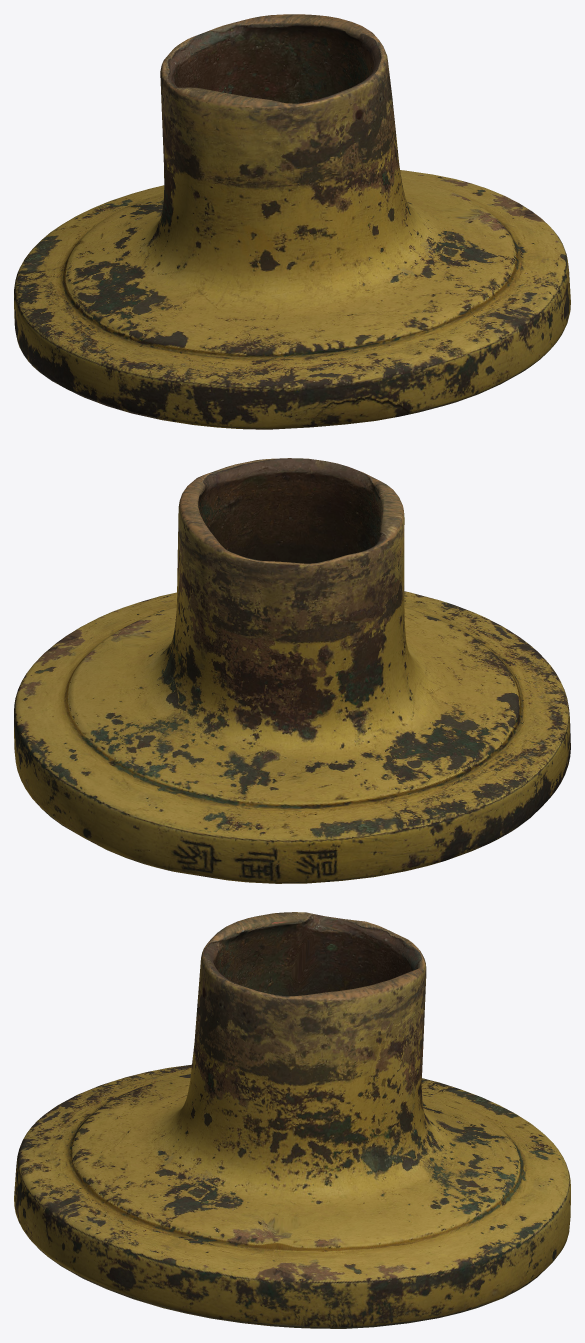
File: dengpan.FBX
3 views of the same model, one above another, from view 1: azimuth 30°, elevation 25°; view 2: azimuth 150°, elevation 25°; view 3: azimuth 270°, elevation 25° (orthographic).
Parts seen in each view (by area): view 1: Group24177; view 2: Group24177; view 3: Group24177.
Boxes of the visible parts, x1,y1,x2,y2 form: Group24177: [14, 14, 570, 429]; Group24177: [14, 458, 570, 883]; Group24177: [14, 912, 570, 1328].
Size of the model in its own units: 473 by 258 by 472.
Materials: 1 (1 with a texture image).
